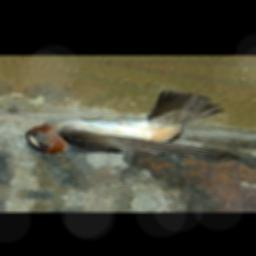Swallow: (20, 79, 256, 170)
